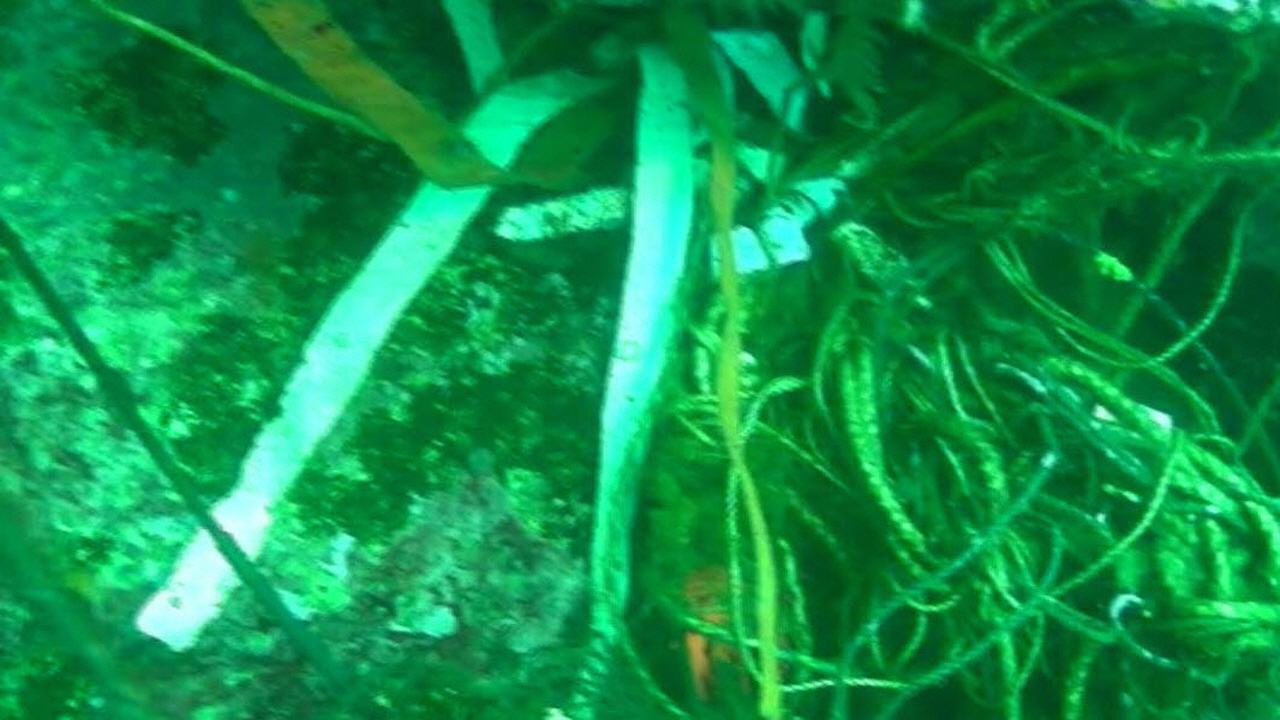bundle of ropes: (600, 0, 1280, 720)
